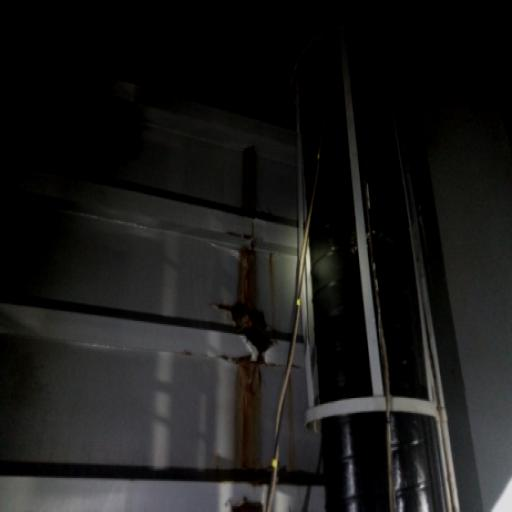Detect-rust-on-metal-surfaces: (227, 59, 270, 511)
